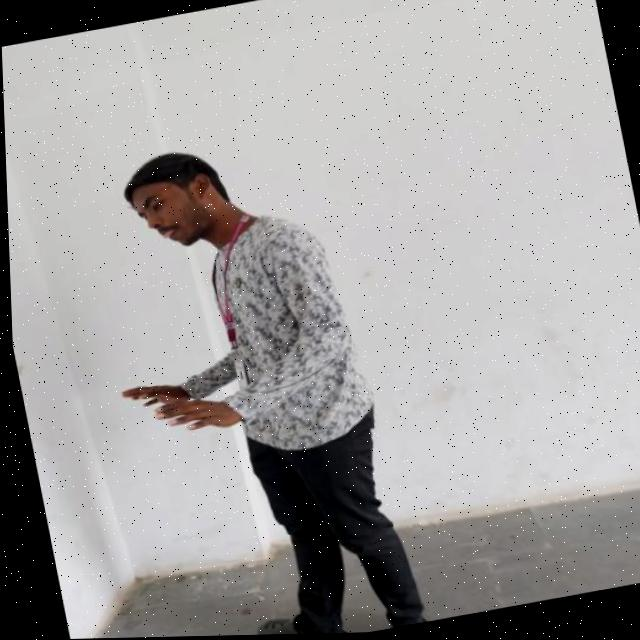id_card: (197, 234, 266, 400)
